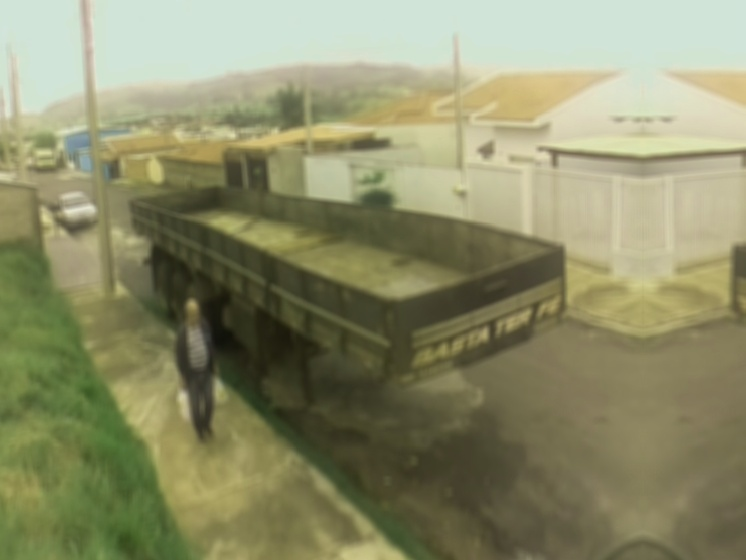person: (173, 297, 220, 446)
